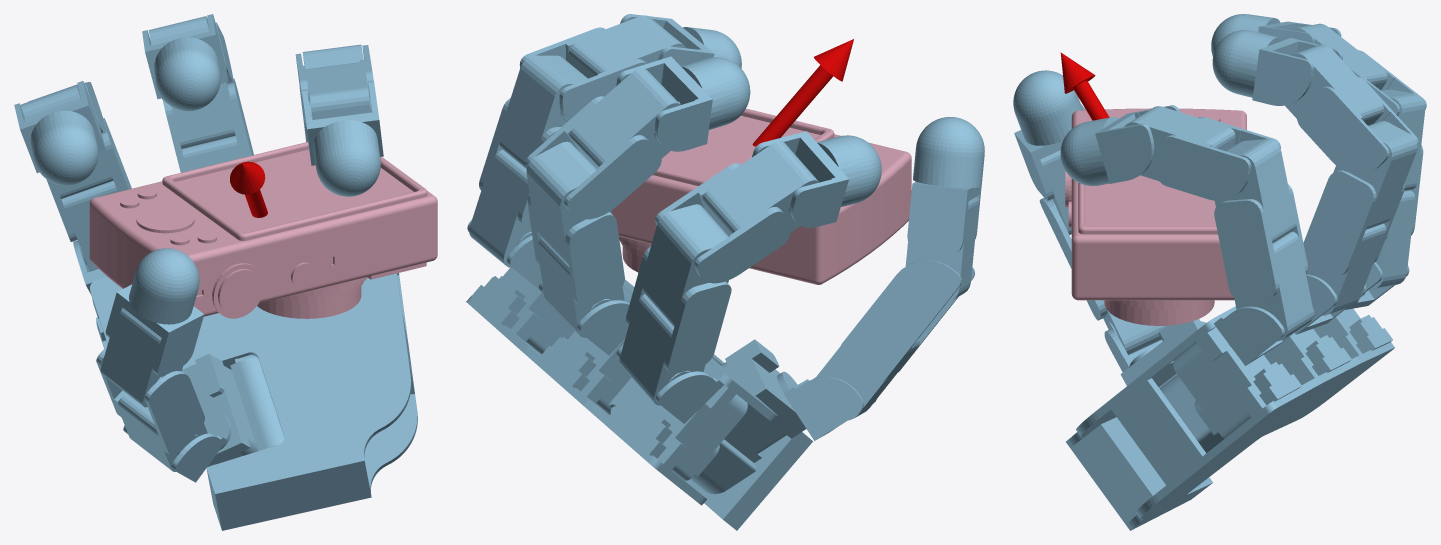
The picture shows the model from 3 angles, left to right: view 1: azimuth 30°, elevation 25°; view 2: azimuth 150°, elevation 25°; view 3: azimuth 270°, elevation 25°; orthographic projection. The views are drawn at different scales.
Visible parts, largest first — view 1: world, camera.stl; view 2: world, camera.stl; view 3: world, camera.stl.
Boxes of the visible parts, x1,y1,x2,y2 form: world: (14, 14, 417, 530); camera.stl: (89, 142, 437, 318); world: (466, 14, 984, 530); camera.stl: (611, 108, 911, 284); world: (1013, 14, 1426, 530); camera.stl: (1065, 108, 1246, 325).
Size of the model in its own units: 0.1628 by 0.1892 by 0.1526.
